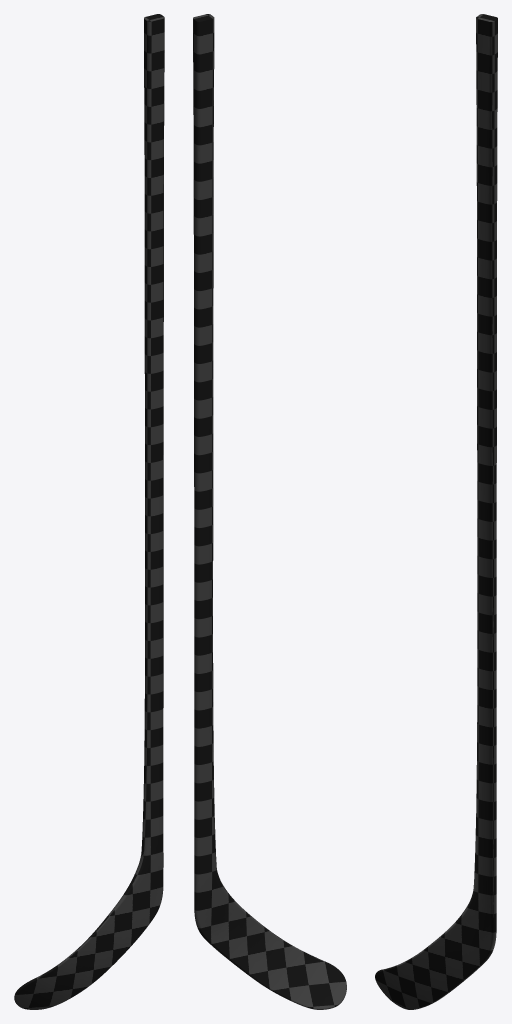
The model's file is P28M-SBO.glb.
The picture shows the model from 3 angles, left to right: view 1: azimuth 30°, elevation 25°; view 2: azimuth 210°, elevation 25°; view 3: azimuth 330°, elevation 25°; orthographic projection. The views are drawn at different scales.
Visible parts, largest first — view 1: geometry_0; view 2: geometry_0; view 3: geometry_0.
Part boxes in pixels (x1,y1,x2,y2): geometry_0: (14, 14, 164, 1009); geometry_0: (193, 14, 346, 1009); geometry_0: (375, 14, 497, 1009).
Bounding box in the file's own units: 231 × 1650 × 71.83.
1 material, 1 textured.
